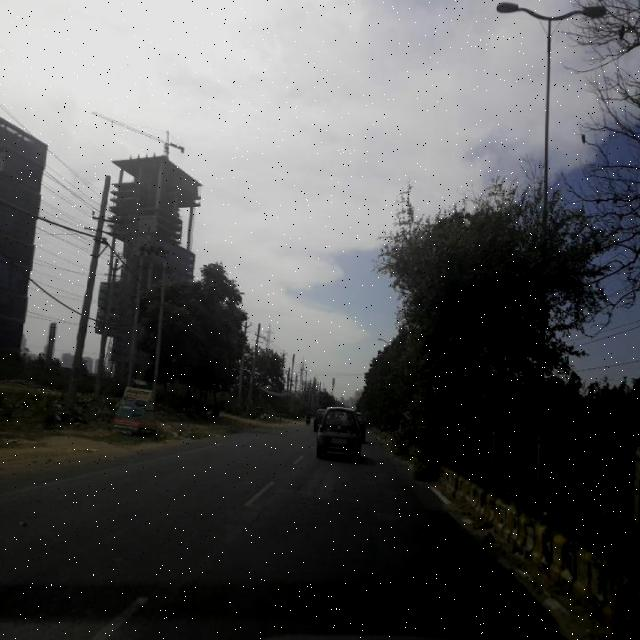D20: (36, 484, 487, 634)
D44: (5, 447, 188, 497), (100, 593, 145, 630)
